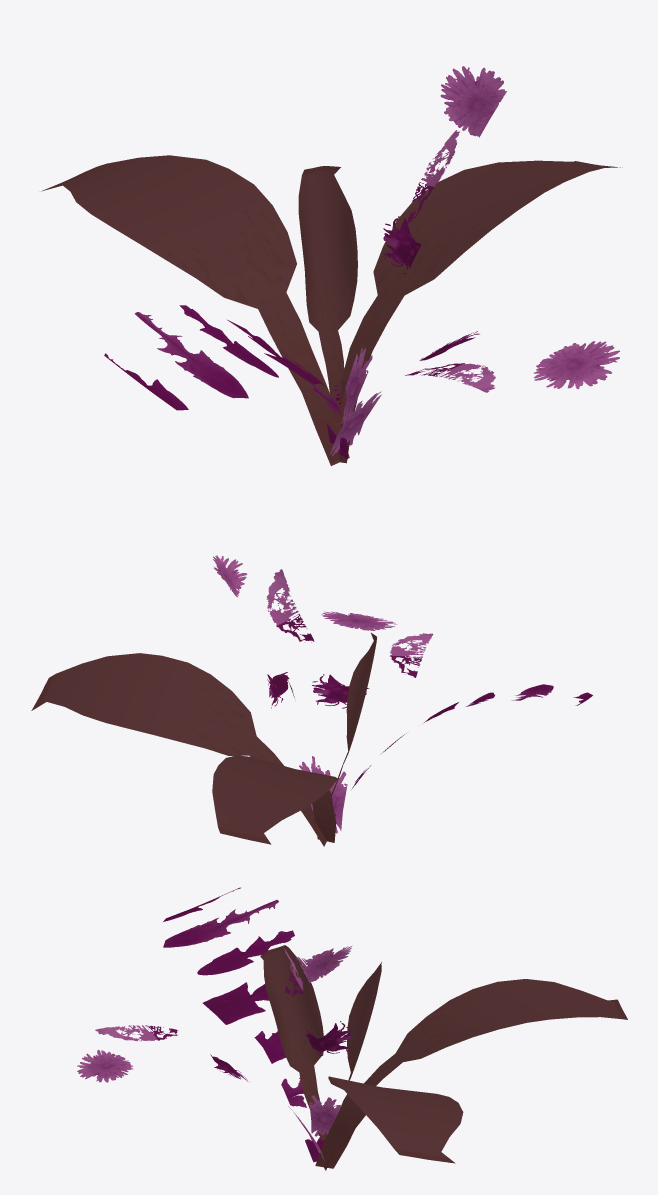
3 views of the same model, one above another, from view 1: azimuth 30°, elevation 25°; view 2: azimuth 150°, elevation 25°; view 3: azimuth 270°, elevation 25° (orthographic). The views are drawn at different scales.
Visible parts, largest first — view 1: SM_GF_Dandelion_03_LOD0; view 2: SM_GF_Dandelion_03_LOD0; view 3: SM_GF_Dandelion_03_LOD0.
Part boxes in pixels (x1,y1,x2,y2): SM_GF_Dandelion_03_LOD0: (41, 66, 622, 465); SM_GF_Dandelion_03_LOD0: (31, 555, 592, 846); SM_GF_Dandelion_03_LOD0: (77, 887, 627, 1170).
Bounding box in the file's own units: 1.24 × 0.7015 × 1.24.
